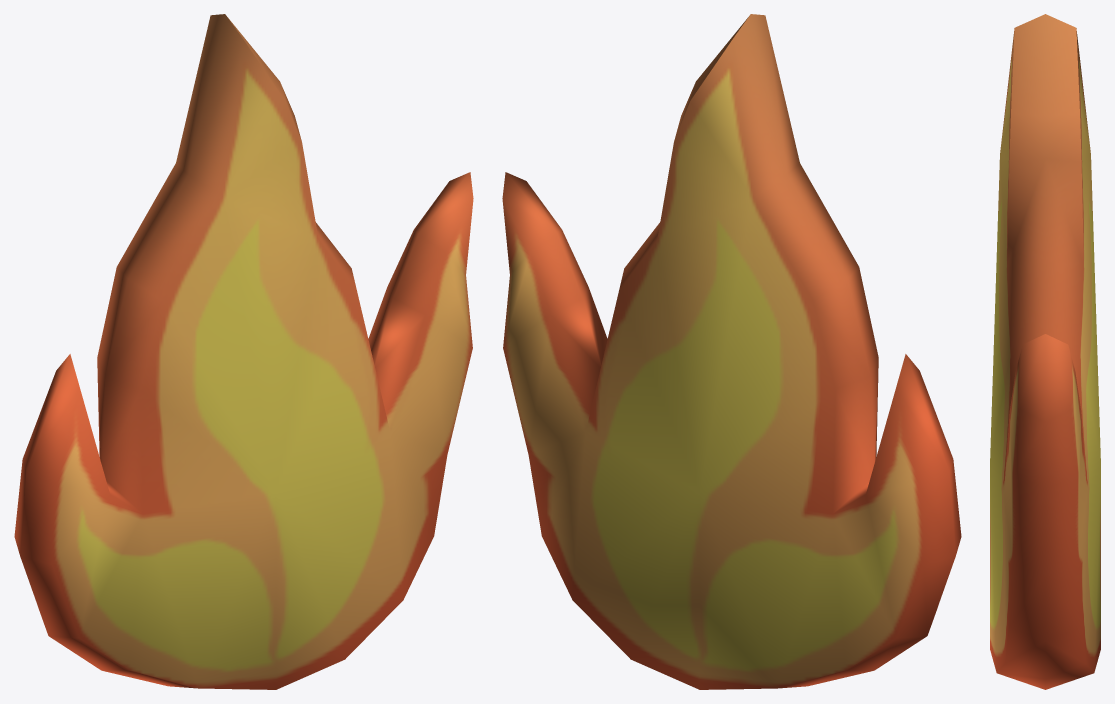
Rendered from fire.fbx.
The picture shows the model from 3 angles, left to right: view 1: azimuth 30°, elevation 25°; view 2: azimuth 150°, elevation 25°; view 3: azimuth 270°, elevation 25°; orthographic projection. The views are drawn at different scales.
Parts seen in each view (by area): view 1: fire; view 2: fire; view 3: fire.
Part boxes in pixels (box(x1,y1,x2,y2)): fire: box(14, 14, 473, 689); fire: box(502, 14, 961, 689); fire: box(990, 14, 1100, 689).
Size of the model in its own units: 1.14 by 1.64 by 0.2567.
1 material, 1 textured.
